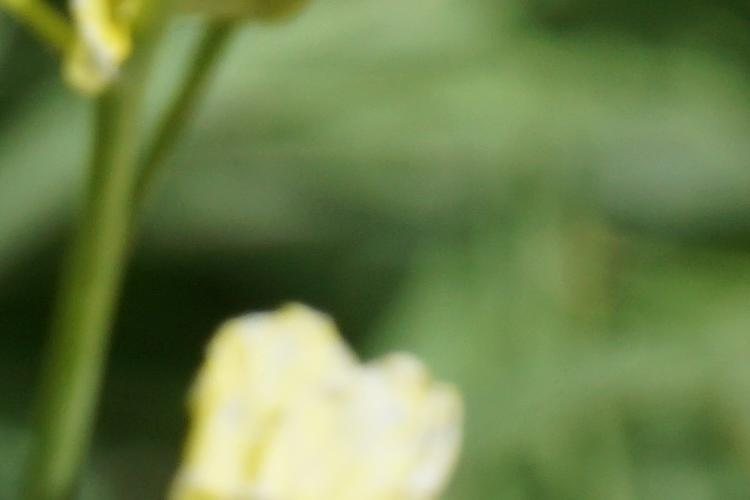white: (149, 300, 492, 500)
